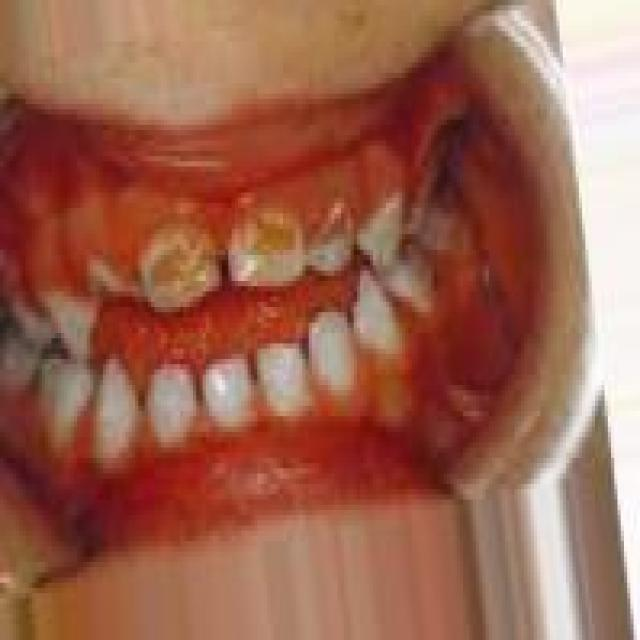caries: (142, 223, 220, 303), (232, 208, 305, 284), (312, 202, 358, 270)
